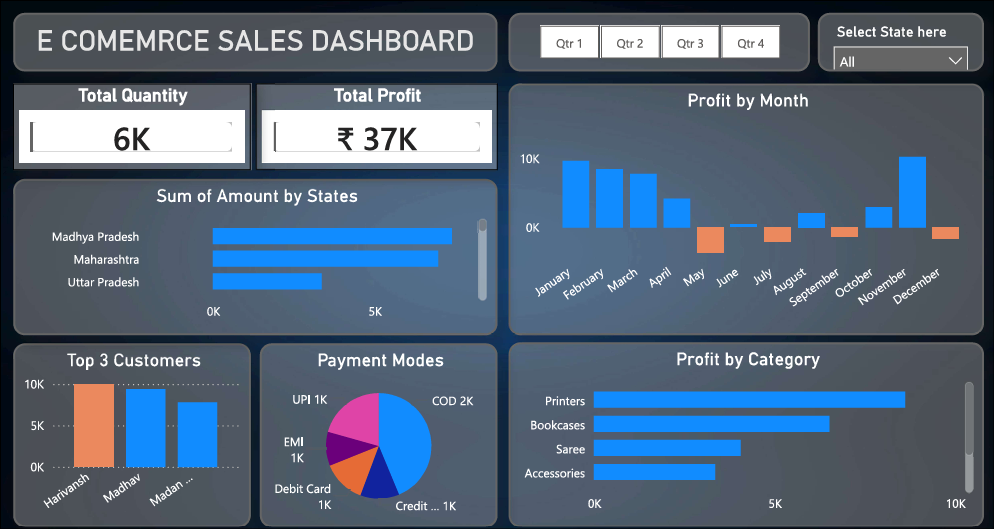

What the dashboard file says about the page in this screenshot:
{"tool":"powerbi","page":{"name":"Page 1","canvas":[1280,720],"ordinal":0},"visuals":[{"type":"columnChart","title":"Profit by Month","fields":{"Category":["Orders.Order Date.Variation.Date Hierarchy.Month"],"Y":["Sum(Details.Profit)"]},"box":[651.1,173.3,477.8,252.2],"z":0},{"type":"textbox","box":[153.3,102.2,486.7,58.9],"z":1000},{"type":"clusteredBarChart","title":"Profit by Category","fields":{"Y":["Sum(Details.Profit)"],"Category":["Details.Sub-Category"]},"box":[651.1,433.3,477.8,185.6],"z":2000},{"type":"columnChart","title":"Top 3 Customers","fields":{"Category":["Orders.CustomerName"],"Y":["Sum(Details.Amount)"]},"box":[153.3,434.4,238.9,184.4],"z":3000},{"type":"clusteredBarChart","title":"Sum of Amount by States","fields":{"Y":["Sum(Details.Profit)"],"Category":["Orders.State"]},"box":[153.3,268.9,486.7,156.7],"z":4000},{"type":"pieChart","title":"Payment Modes","fields":{"Y":["Sum(Details.Quantity)"],"Series":["Details.PaymentMode"]},"box":[401.1,434.4,238.9,184.4],"z":5000},{"type":"slicer","fields":{"Values":["Orders.Order Date.Variation.Date Hierarchy.Quarter"]},"box":[651.1,102.2,303.3,58.9],"z":6000},{"type":"cardVisual","title":"Total Profit","fields":{"Data":["Sum(Details.Profit)"]},"box":[396.7,173.3,243.3,86.7],"z":7000},{"type":"cardVisual","title":"Total Quantity","fields":{"Data":["Sum(Details.Quantity)"]},"box":[153.3,173.3,238.9,86.7],"z":8000},{"type":"slicer","fields":{"Values":["Orders.State"]},"box":[962.2,102.2,166.7,58.9],"z":9000}]}

Visuals, with their boxes on the page's 1280x720 design canvas (x1, y1, x2, y2). These are canvas units, not pixel positions in the 994x529 screenshot, which may show the page scaled, cropped or inside an application window:
"Profit by Month" columnChart: select_region(651, 173, 1129, 426)
textbox: select_region(153, 102, 640, 161)
"Profit by Category" clusteredBarChart: select_region(651, 433, 1129, 619)
"Top 3 Customers" columnChart: select_region(153, 434, 392, 619)
"Sum of Amount by States" clusteredBarChart: select_region(153, 269, 640, 426)
"Payment Modes" pieChart: select_region(401, 434, 640, 619)
slicer - Orders.Order Date.Variation.Date Hierarchy.Quarter: select_region(651, 102, 954, 161)
"Total Profit" cardVisual: select_region(397, 173, 640, 260)
"Total Quantity" cardVisual: select_region(153, 173, 392, 260)
slicer - Orders.State: select_region(962, 102, 1129, 161)
